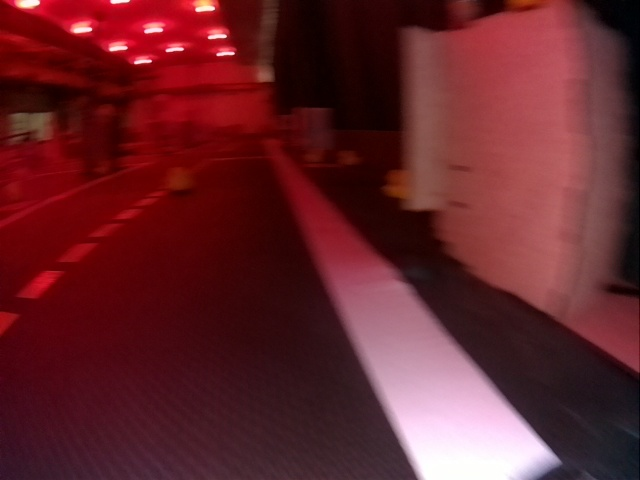Duckie: (380, 169, 405, 199), (166, 166, 194, 191), (338, 148, 360, 165)
